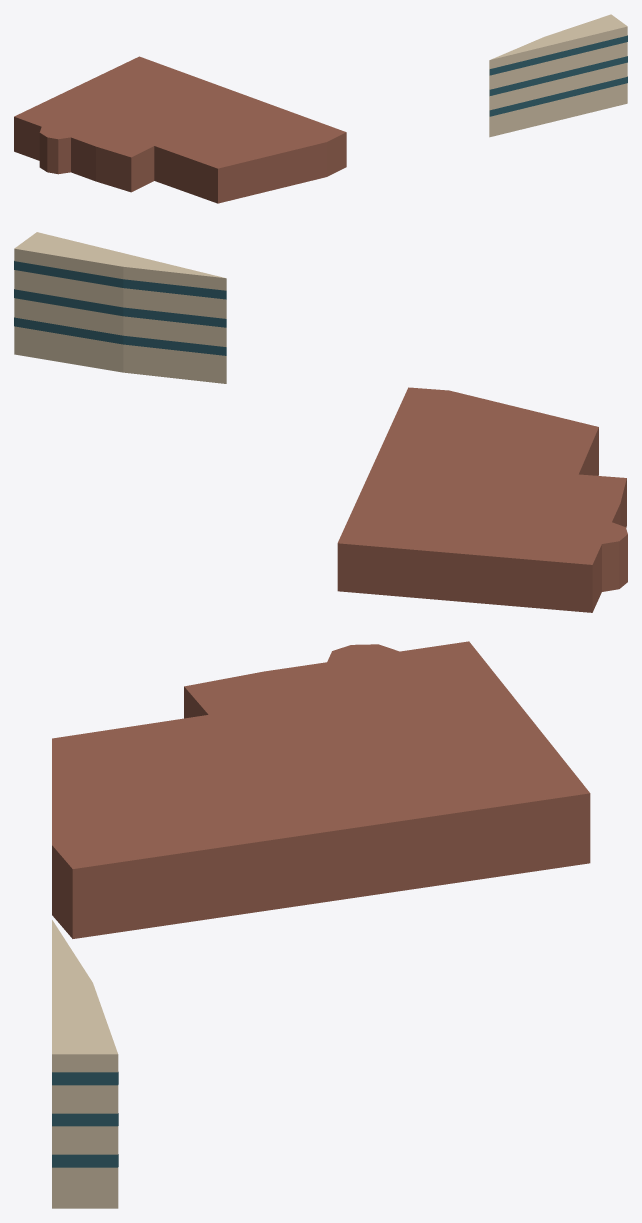
File: city_-2_-8.glb
3 renders of one model, top to bottom at view 1: azimuth 30°, elevation 25°; view 2: azimuth 150°, elevation 25°; view 3: azimuth 270°, elevation 25°, orthographic. The views are drawn at different scales.
Parts seen in each view (by area): view 1: city_-2_-8; view 2: city_-2_-8; view 3: city_-2_-8.
Part boxes in pixels (<box>): city_-2_-8: <box>14,14,627,203</box>; city_-2_-8: <box>14,232,627,612</box>; city_-2_-8: <box>52,641,590,1208</box>.
Bounding box in the file's own units: 104 × 15 × 47.45.
